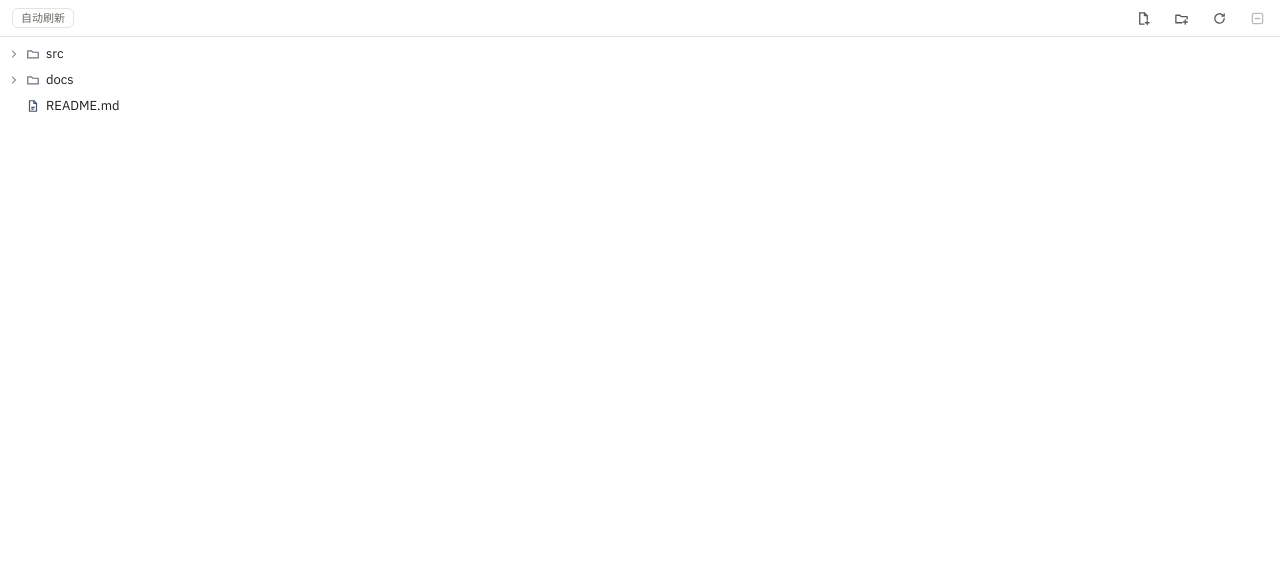
the viewer › renders the message for invalid_path and no stale text
The image size is (1280, 569).
Click the list item "README.md" at (73, 106), box 26,97 -> 120,114
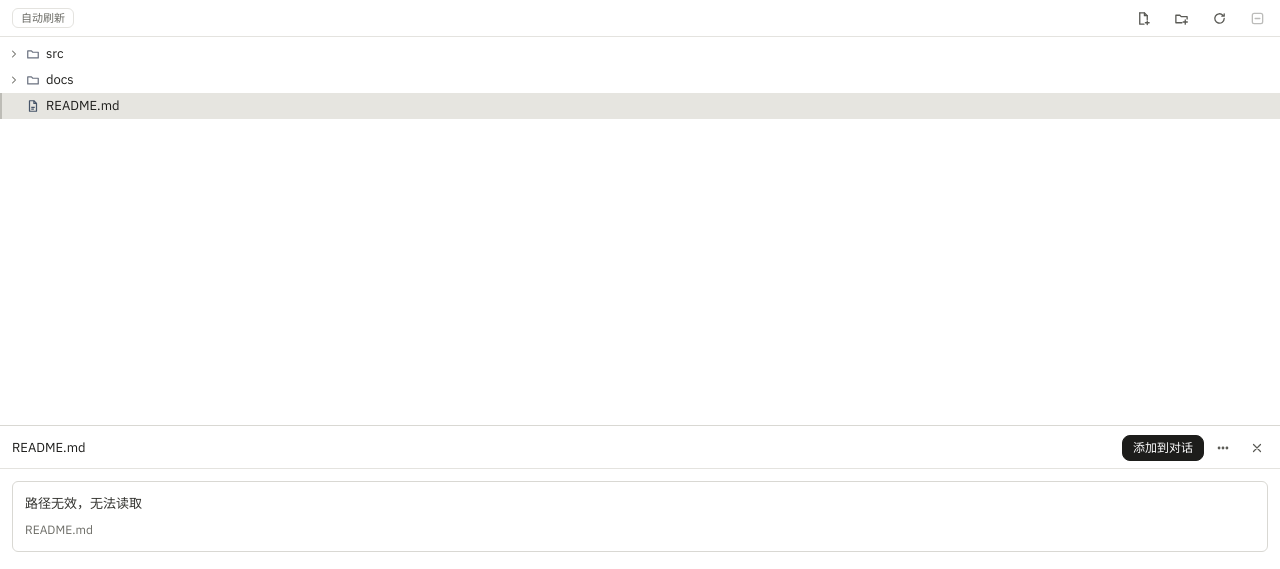
Expected: the text "路径无效，无法读取" is shown, 25,494 -> 142,513
